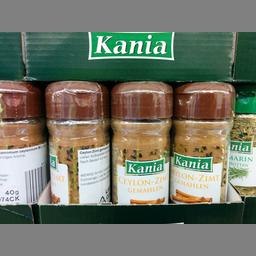spices: (44, 80, 108, 202), (110, 80, 172, 203), (174, 82, 233, 204), (0, 80, 43, 202)
